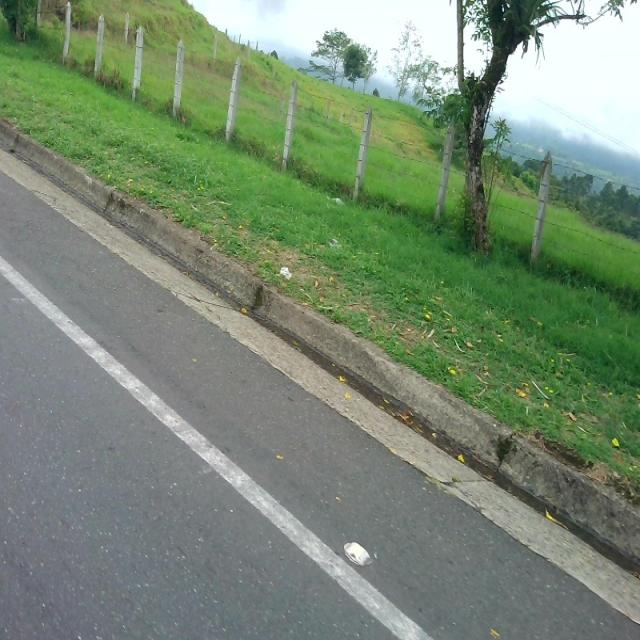DITCH: (1, 2, 638, 638), (1, 115, 639, 636)
